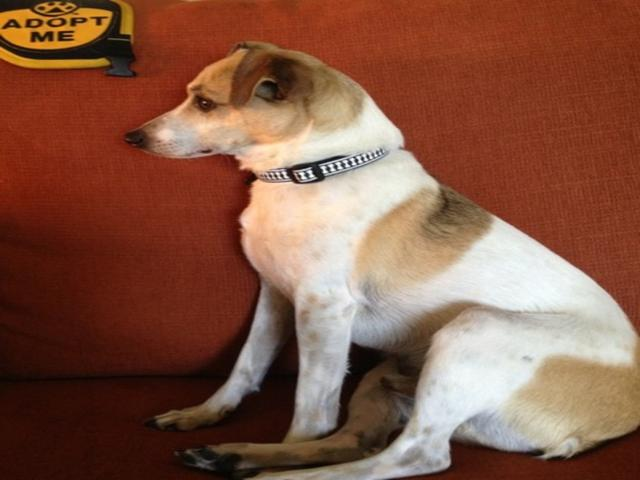Dog: (120, 40, 638, 479)
